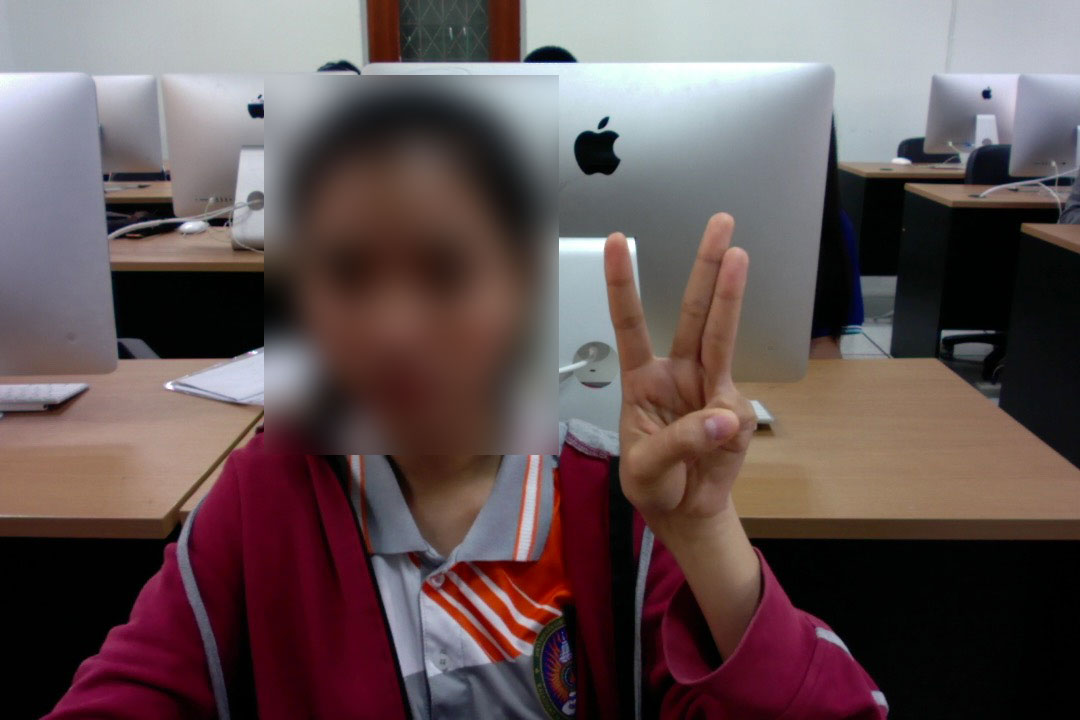wor: (576, 202, 778, 537)
